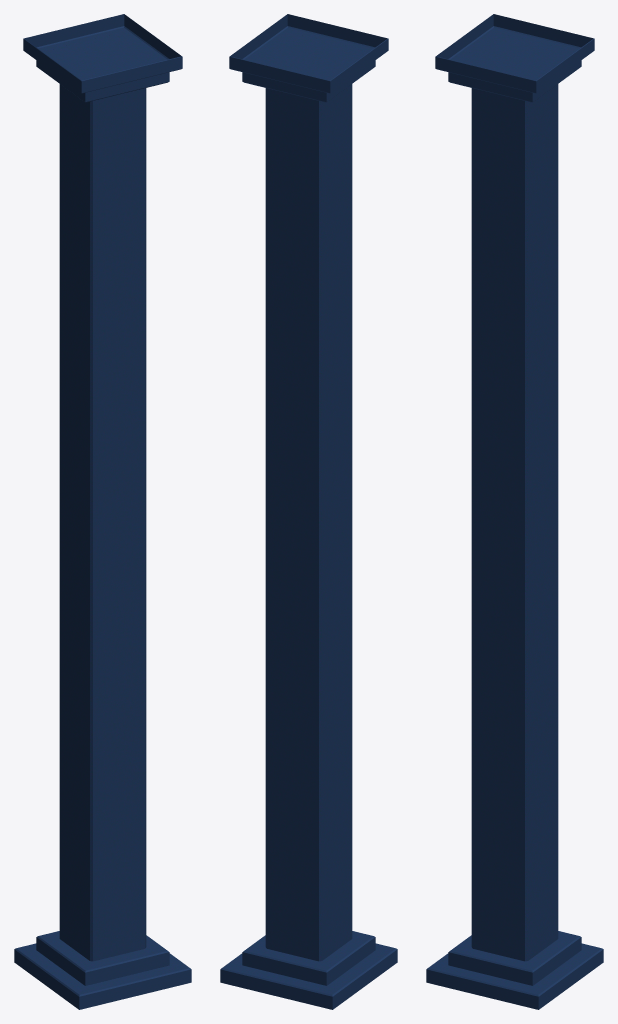
The model's file is Pilar.fbx.
3 renders of one model, left to right at view 1: azimuth 30°, elevation 25°; view 2: azimuth 150°, elevation 25°; view 3: azimuth 330°, elevation 25°, orthographic.
Visible parts, largest first — view 1: Pilar; view 2: Pilar; view 3: Pilar.
Part boxes in pixels (left/top/right/bottom): Pilar: left=14, top=14, right=191, bottom=1009; Pilar: left=220, top=14, right=397, bottom=1009; Pilar: left=426, top=14, right=603, bottom=1009.
Bounding box in the file's own units: 39.62 × 312 × 39.62.
